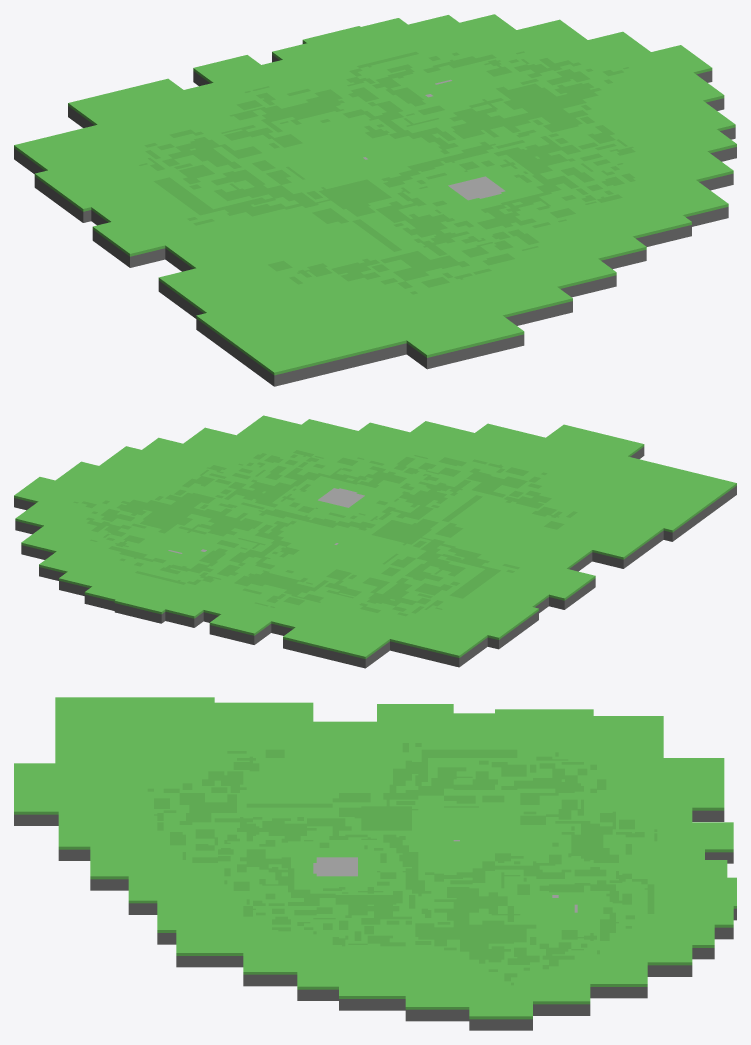
File: Level1-0.obj
3 renders of one model, top to bottom at view 1: azimuth 30°, elevation 25°; view 2: azimuth 150°, elevation 25°; view 3: azimuth 270°, elevation 25°, orthographic. The views are drawn at different scales.
Size of the model in its own units: 23.7 by 0.5 by 22.7.
1 material, 1 textured.
